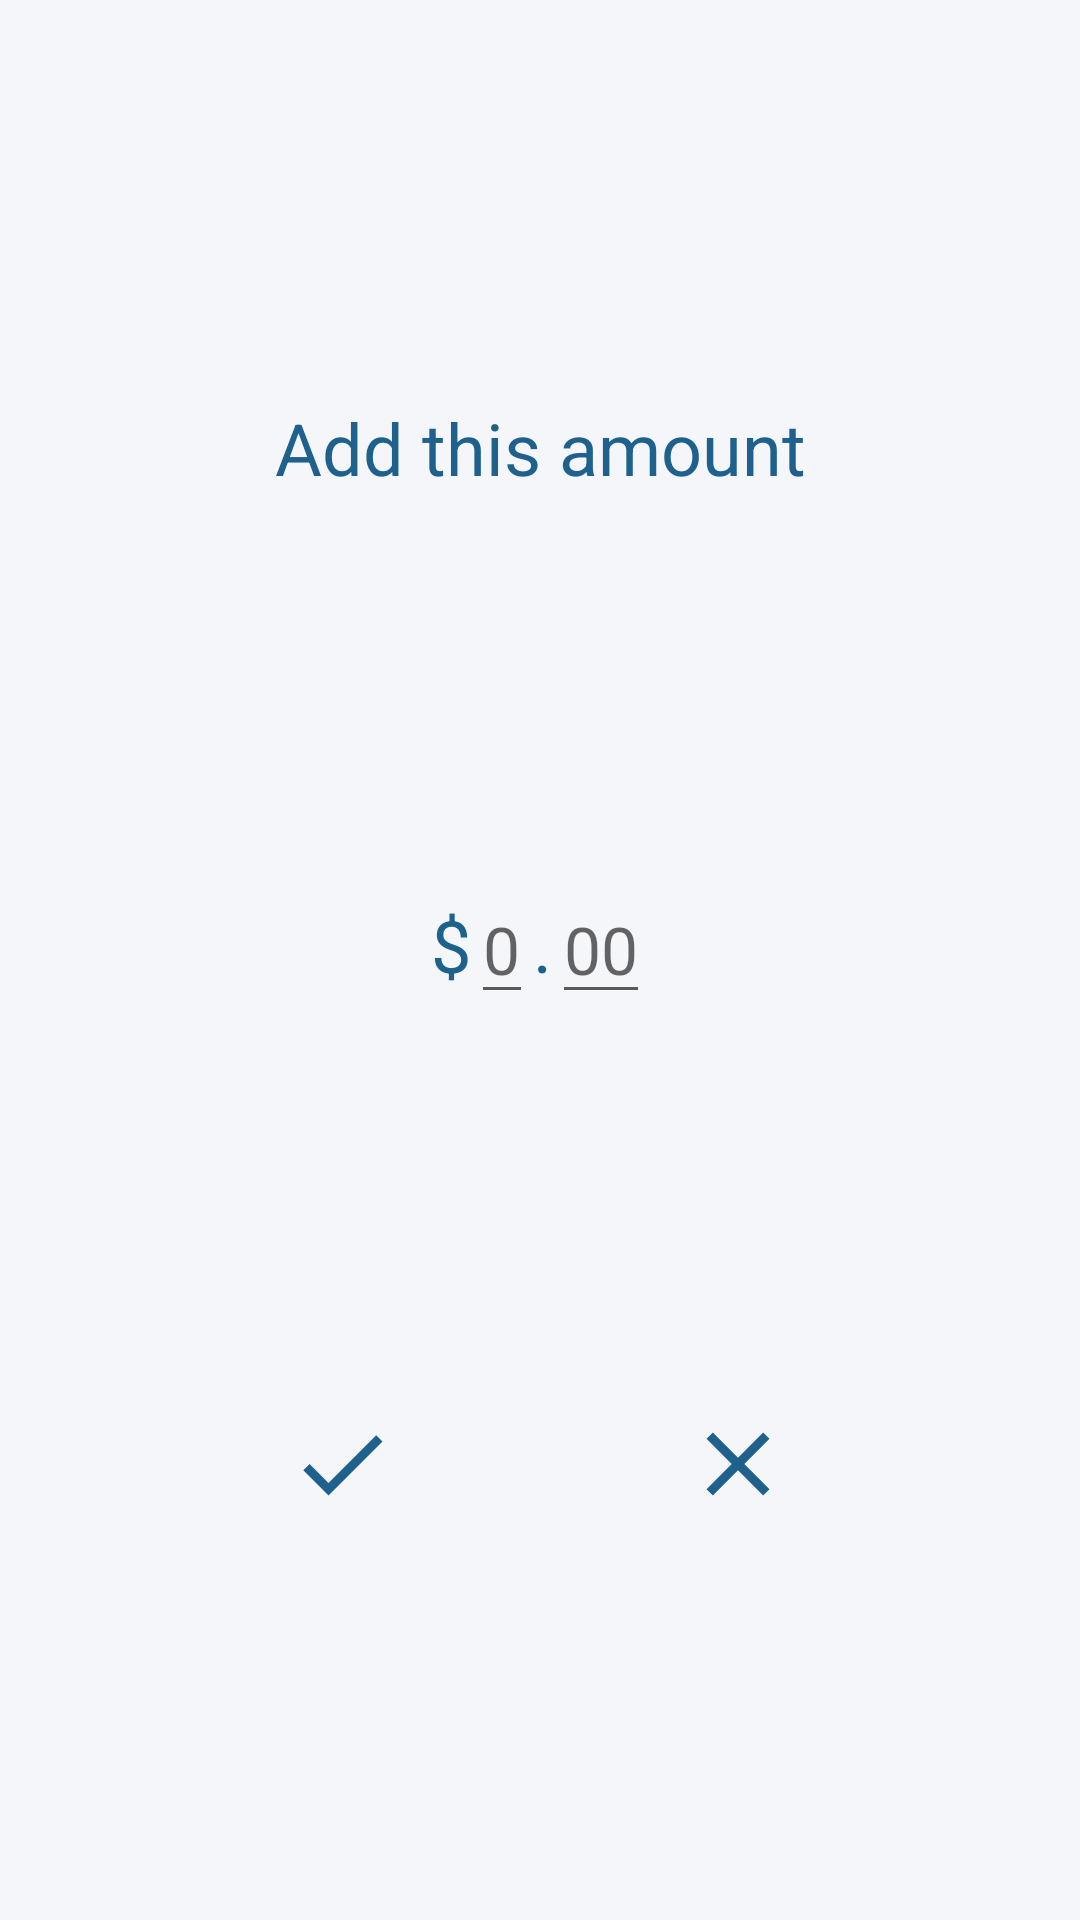

Where to tap for icons on this 1080px x 1920px app screen, as point (x, y):
Cancel button: point (738, 1464)
